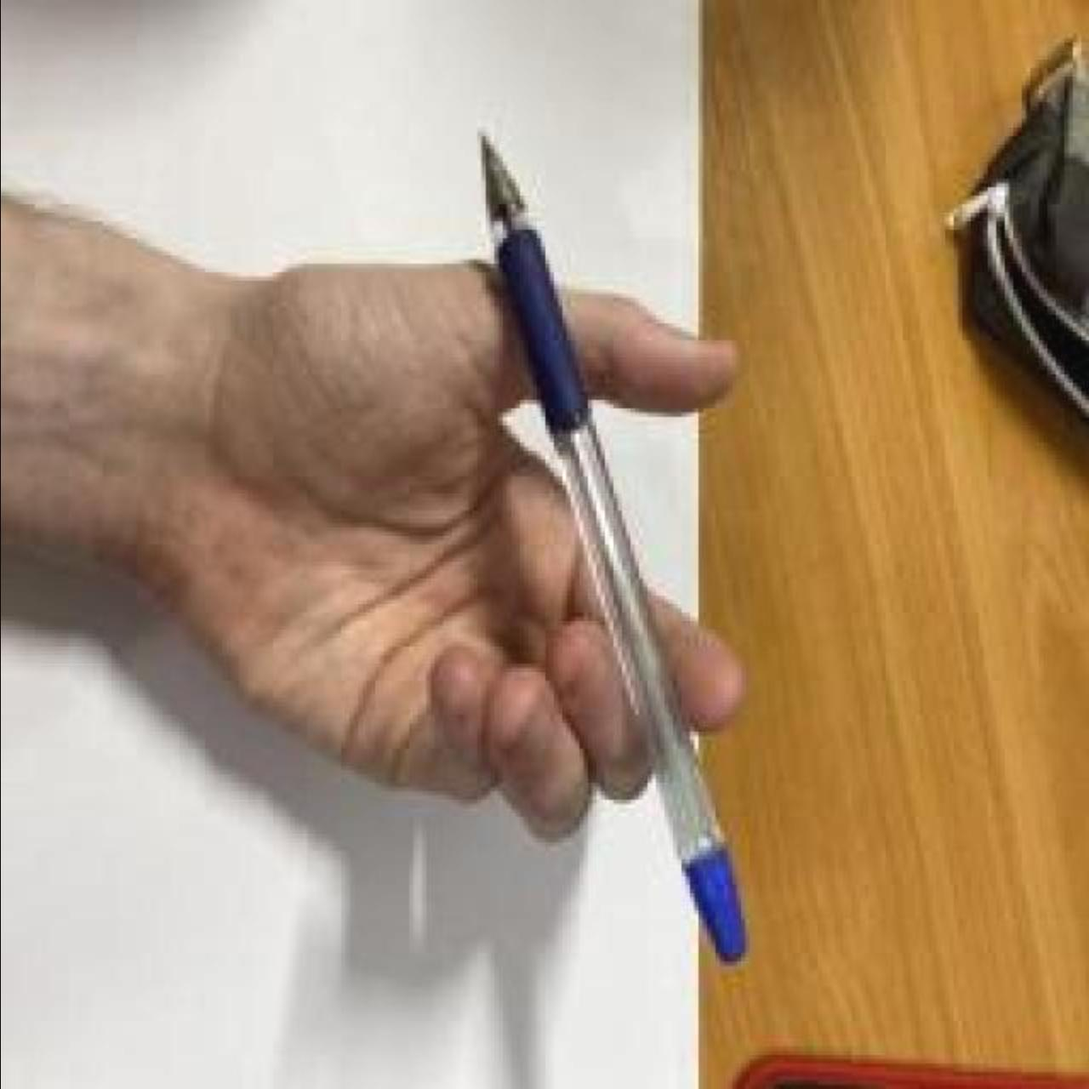pen: (468, 128, 749, 966)
